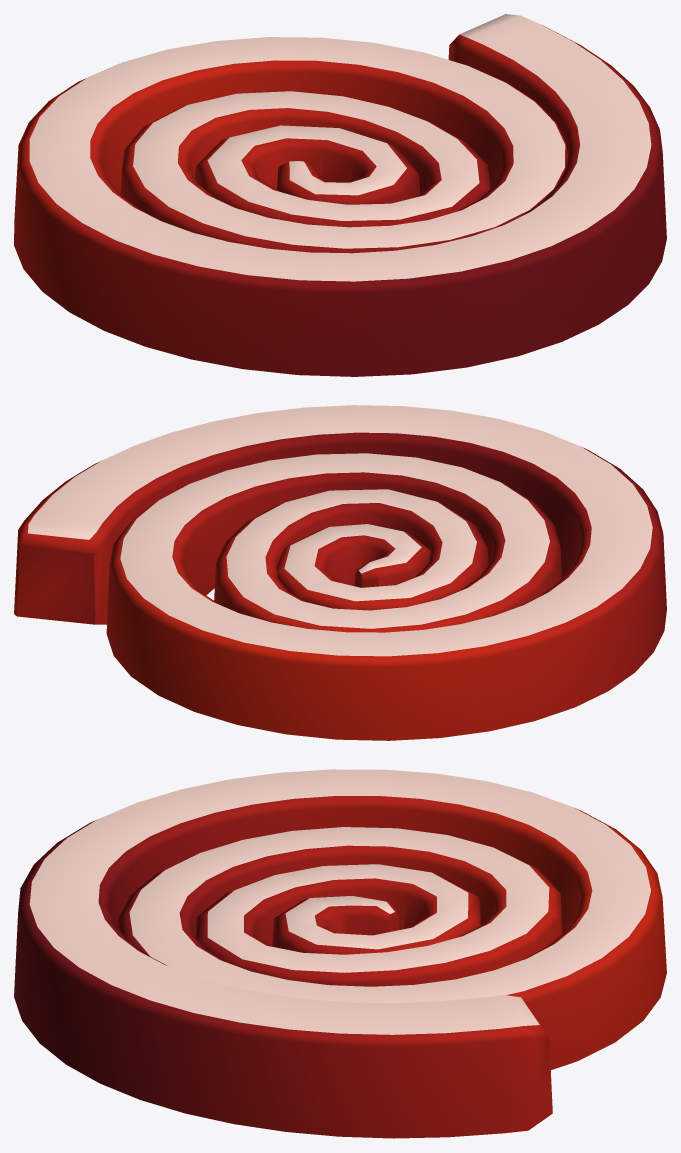
The model's file is Sweep.fbx.
3 views of the same model, one above another, from view 1: azimuth 30°, elevation 25°; view 2: azimuth 150°, elevation 25°; view 3: azimuth 270°, elevation 25° (orthographic). The views are drawn at different scales.
Parts seen in each view (by area): view 1: Sweep; view 2: Sweep; view 3: Sweep.
Part boxes in pixels (x1,y1,x2,y2): Sweep: [14, 14, 666, 376]; Sweep: [14, 405, 666, 740]; Sweep: [14, 769, 666, 1138].
Size of the model in its own units: 17.63 by 2.83 by 17.05.
